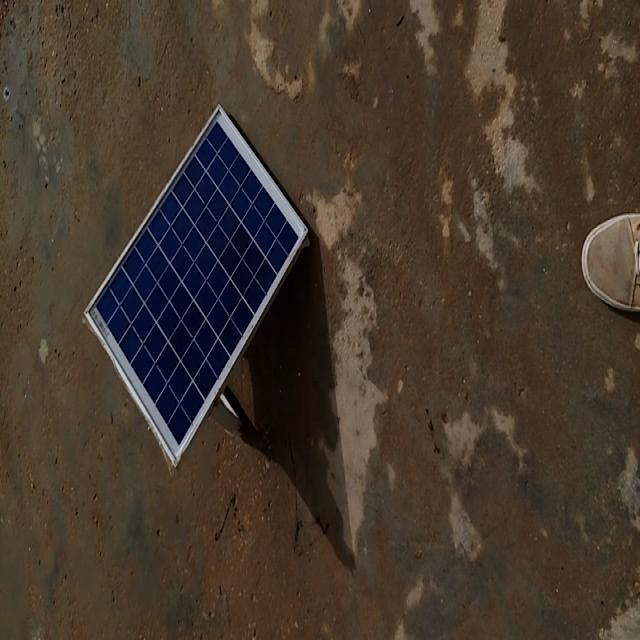Normal Solar Panel: (84, 104, 308, 467)
